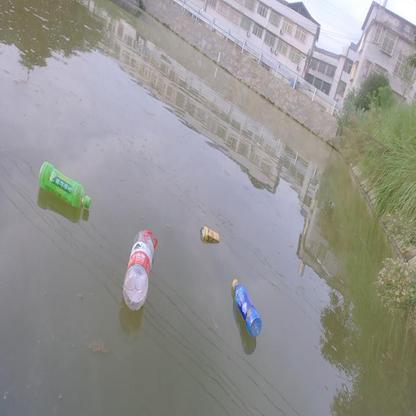can: (199, 226, 222, 242)
plastic bottle: (121, 228, 156, 310), (37, 161, 92, 208), (231, 278, 261, 337)
